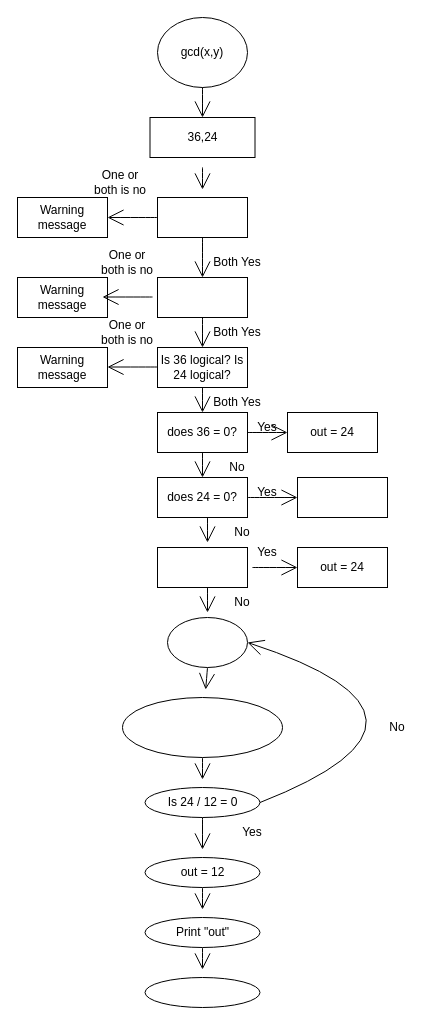
This 445x1025 diagram has some shape labels left out. Each missing label, with the box of its shape:
END: (144, 976, 260, 1008)
is 36 an integer? is 24 an integer?: (156, 196, 248, 238)
Is 36 char? Is 24 char?: (156, 276, 248, 318)
Is the remainder of 36 / 24 = 0?: (156, 546, 248, 588)
out = 36: (296, 476, 388, 518)
Substitute 36 with 24 and substitute 24 with the remainder of 36/24: (122, 696, 282, 758)
While Loop: (166, 616, 248, 668)
